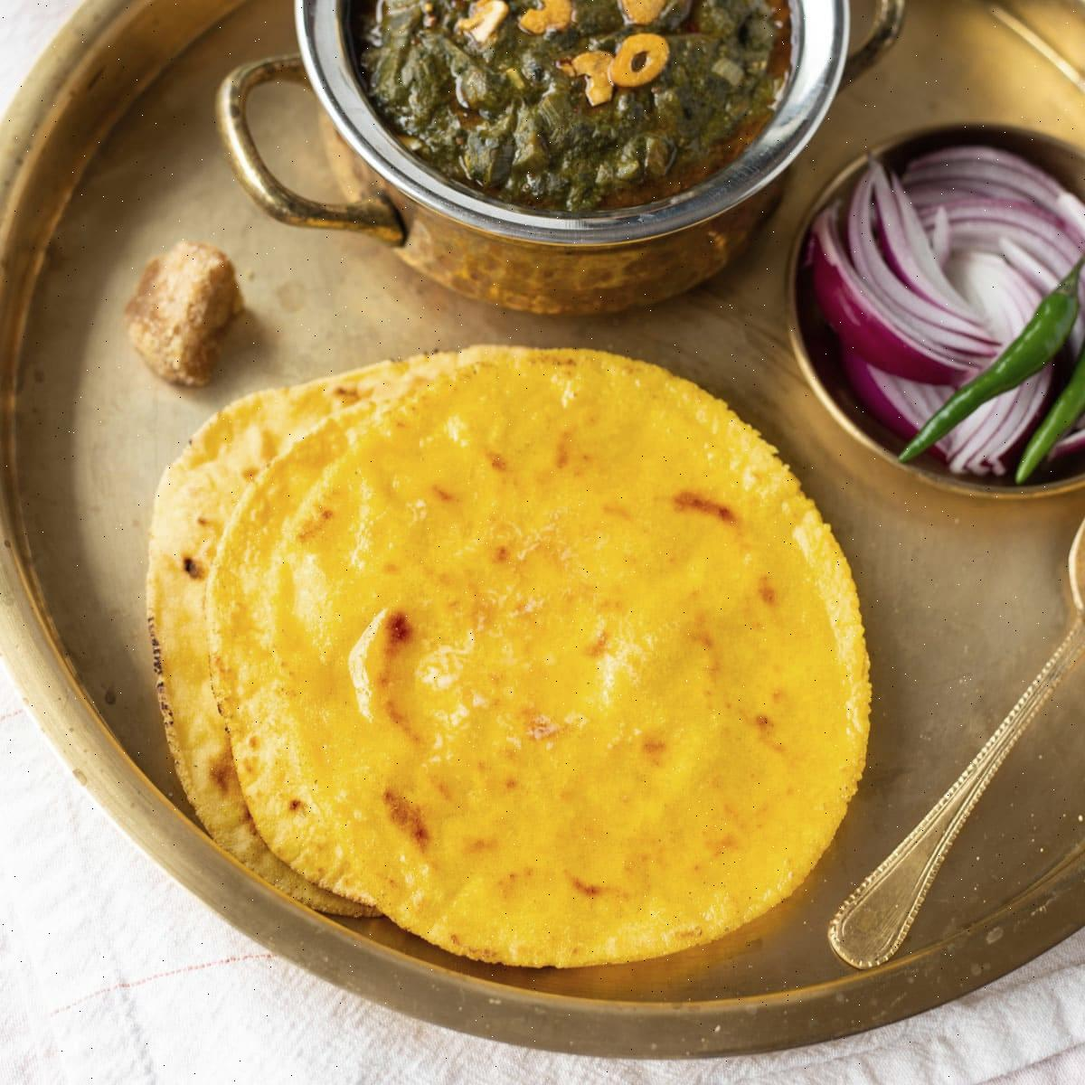saag: (353, 5, 821, 184)
